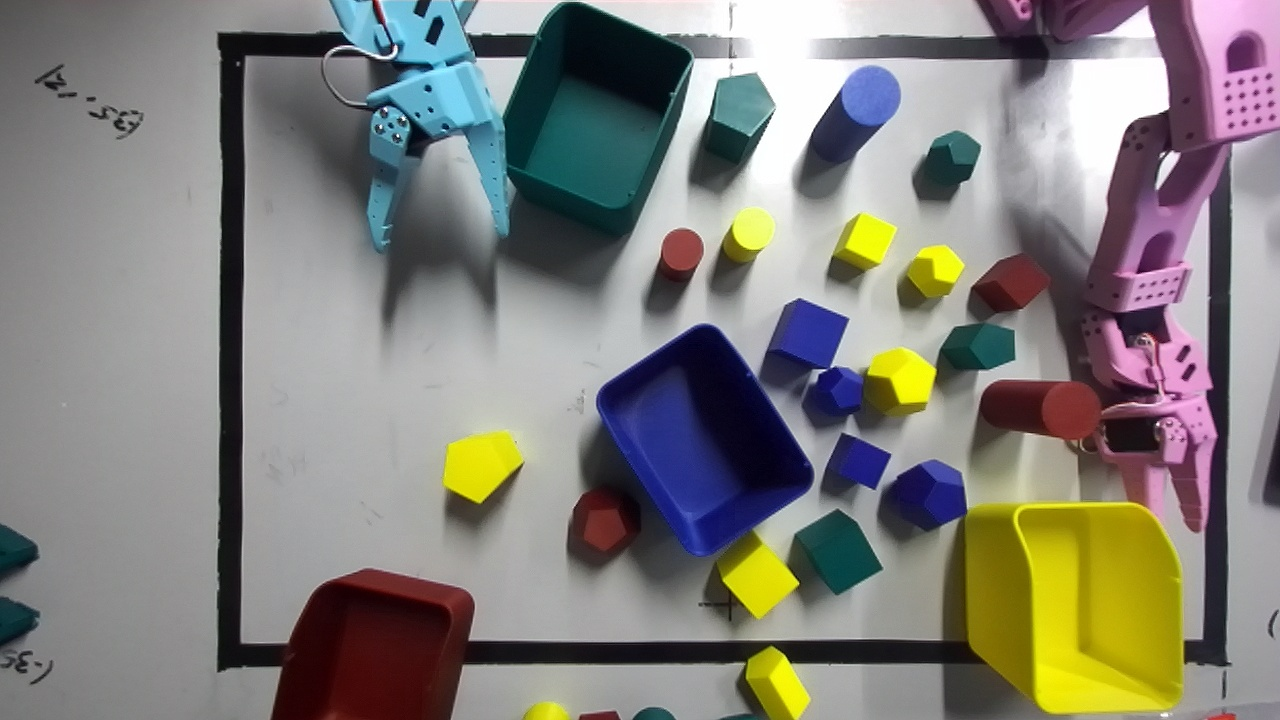bin: (597, 324, 813, 555), (965, 503, 1182, 713), (504, 3, 692, 233), (272, 570, 473, 719)
cube: (794, 509, 882, 594), (716, 530, 798, 617), (767, 298, 847, 368), (971, 253, 1050, 312), (832, 213, 896, 270), (826, 433, 890, 488)
cylinder: (810, 65, 900, 162), (980, 380, 1101, 439), (721, 207, 774, 262), (657, 228, 703, 281)
dodecahedron: (882, 460, 966, 530), (863, 348, 936, 415), (572, 487, 639, 553), (926, 130, 981, 184), (907, 245, 964, 297), (807, 367, 862, 416)
hexagonal: (704, 73, 775, 162), (442, 431, 523, 503), (941, 323, 1015, 369)
